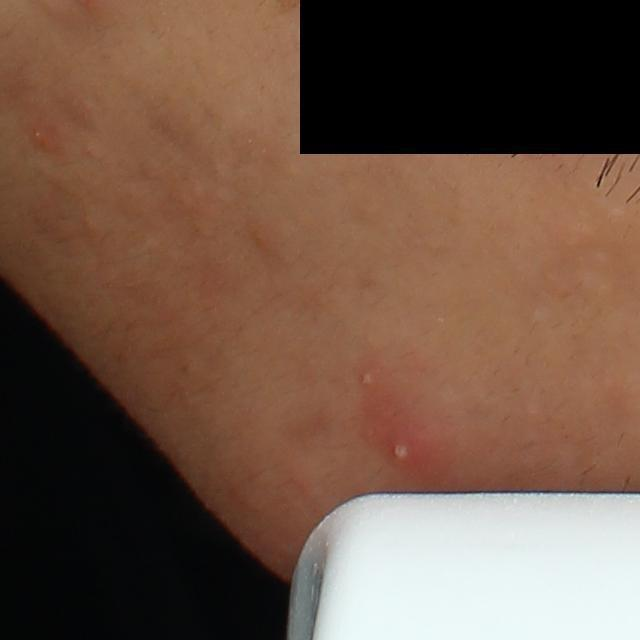hypertrophic_scar: (569, 269, 613, 299), (602, 203, 633, 227)
papule: (23, 116, 69, 163)
pustule: (382, 423, 432, 471), (354, 361, 385, 396)
